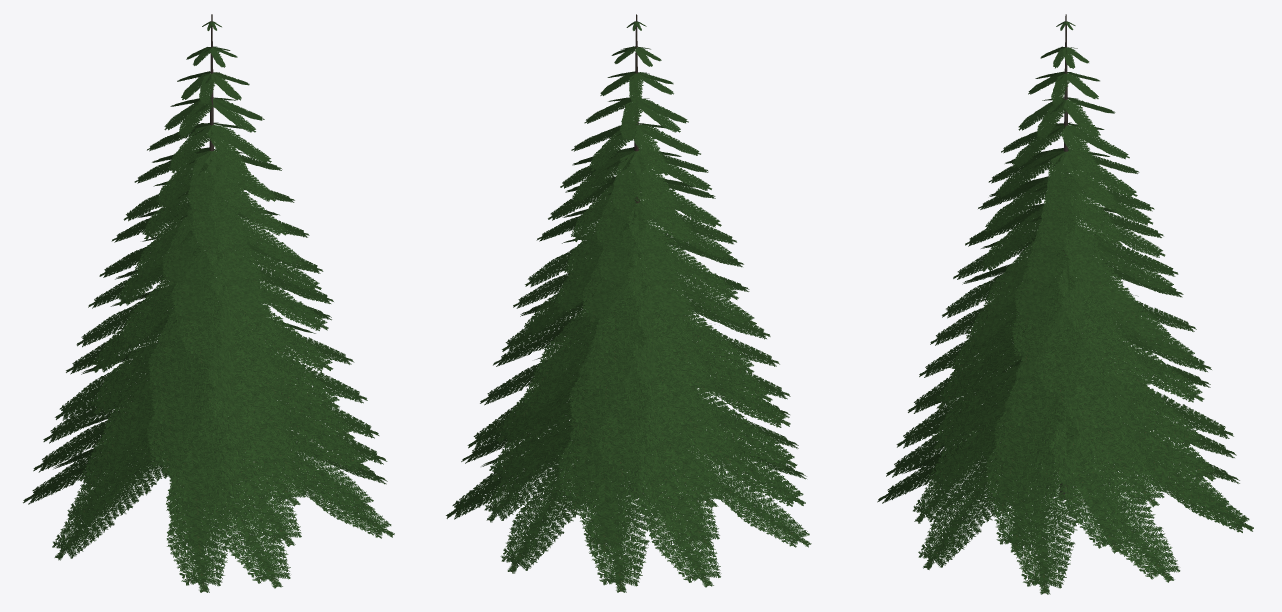
File: Fir_B.gltf
The picture shows the model from 3 angles, left to right: view 1: azimuth 30°, elevation 25°; view 2: azimuth 150°, elevation 25°; view 3: azimuth 270°, elevation 25°; orthographic projection.
Parts seen in each view (by area): view 1: Fir_B; view 2: Fir_B; view 3: Fir_B.
Part boxes in pixels (<box>): Fir_B: <box>23,14,394,592</box>; Fir_B: <box>446,14,811,592</box>; Fir_B: <box>877,14,1253,594</box>.
Bounding box in the file's own units: 13.34 × 18.64 × 13.57.
Materials: 2 (2 with a texture image).
